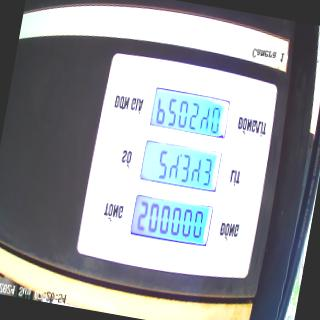screen: (128, 84, 234, 252)
